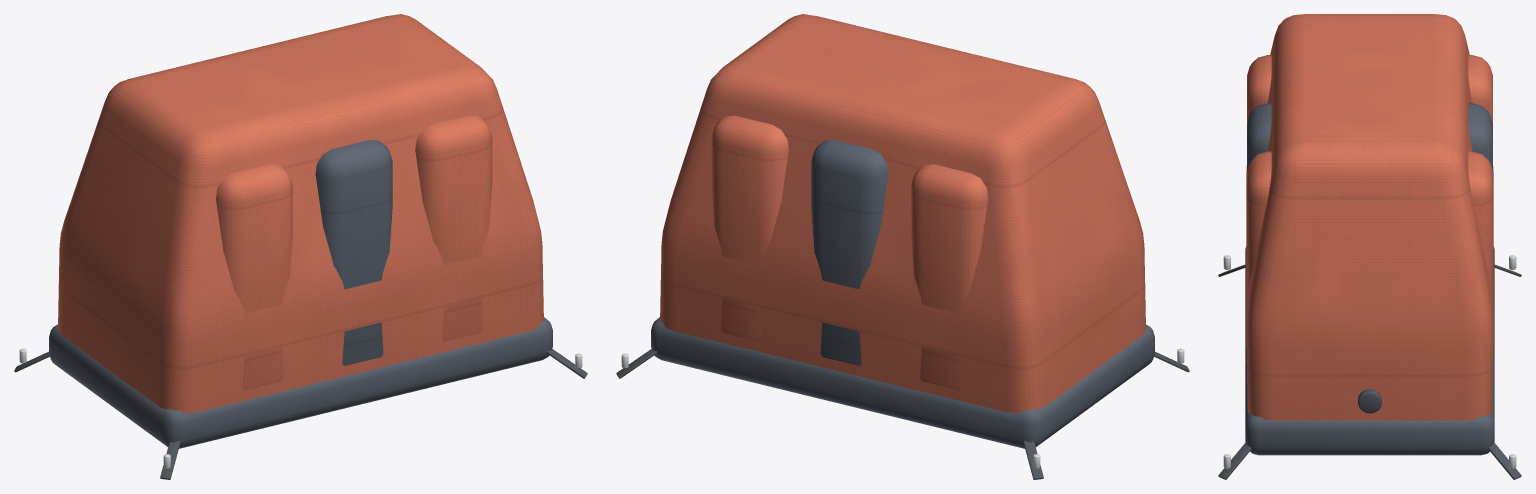
Rendered from bunker_temple_red.glb.
3 views of the same model, side by side, from view 1: azimuth 30°, elevation 25°; view 2: azimuth 150°, elevation 25°; view 3: azimuth 270°, elevation 25° (orthographic).
Parts seen in each view (by area): view 1: TempleMain, TempleSkirt, TempleRib_0.75, TempleRib_0.00, TempleRib_-0.75; view 2: TempleMain, TempleSkirt, TempleRib_0.75, TempleRib_0.00, TempleRib_-0.75; view 3: TempleMain, TempleSkirt, TempleRib_0.75, TempleRib_-0.75, TempleRib_0.00, AirValve, Strap_1, Strap_2.
Part boxes in pixels (x1,y1,x2,y2): TempleMain: (58,14,543,413); TempleSkirt: (49,317,552,448); TempleRib_0.75: (415,115,492,341); TempleRib_0.00: (315,140,392,365); TempleRib_-0.75: (216,164,292,390); TempleMain: (660,14,1145,413); TempleSkirt: (651,317,1154,448); TempleRib_0.75: (711,115,788,341); TempleRib_0.00: (811,140,888,365); TempleRib_-0.75: (911,164,987,390); TempleMain: (1246,14,1493,420); TempleSkirt: (1245,246,1494,455); TempleRib_0.75: (1247,151,1492,295); TempleRib_-0.75: (1247,55,1492,122); TempleRib_0.00: (1247,103,1492,170); AirValve: (1358,389,1381,413); Strap_1: (1218,442,1251,479); Strap_2: (1488,442,1521,479).
Size of the model in its own units: 3.22 by 2.16 by 2.
5 materials, 3 textured.
